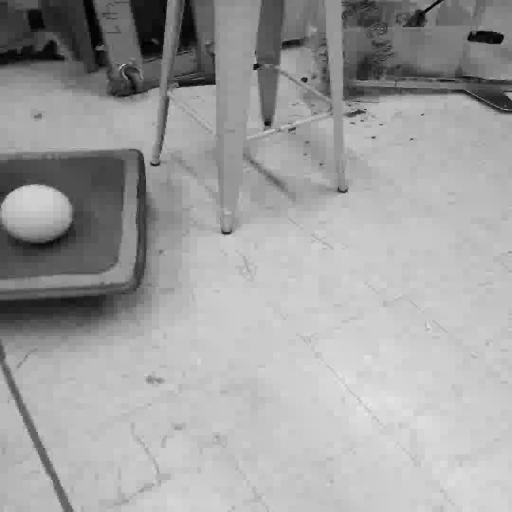fuel: (0, 184, 73, 244)
